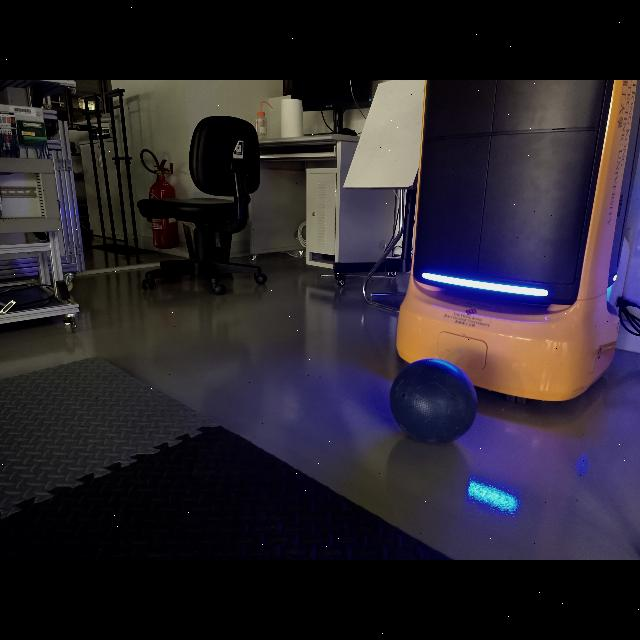B: (390, 357, 478, 443)
